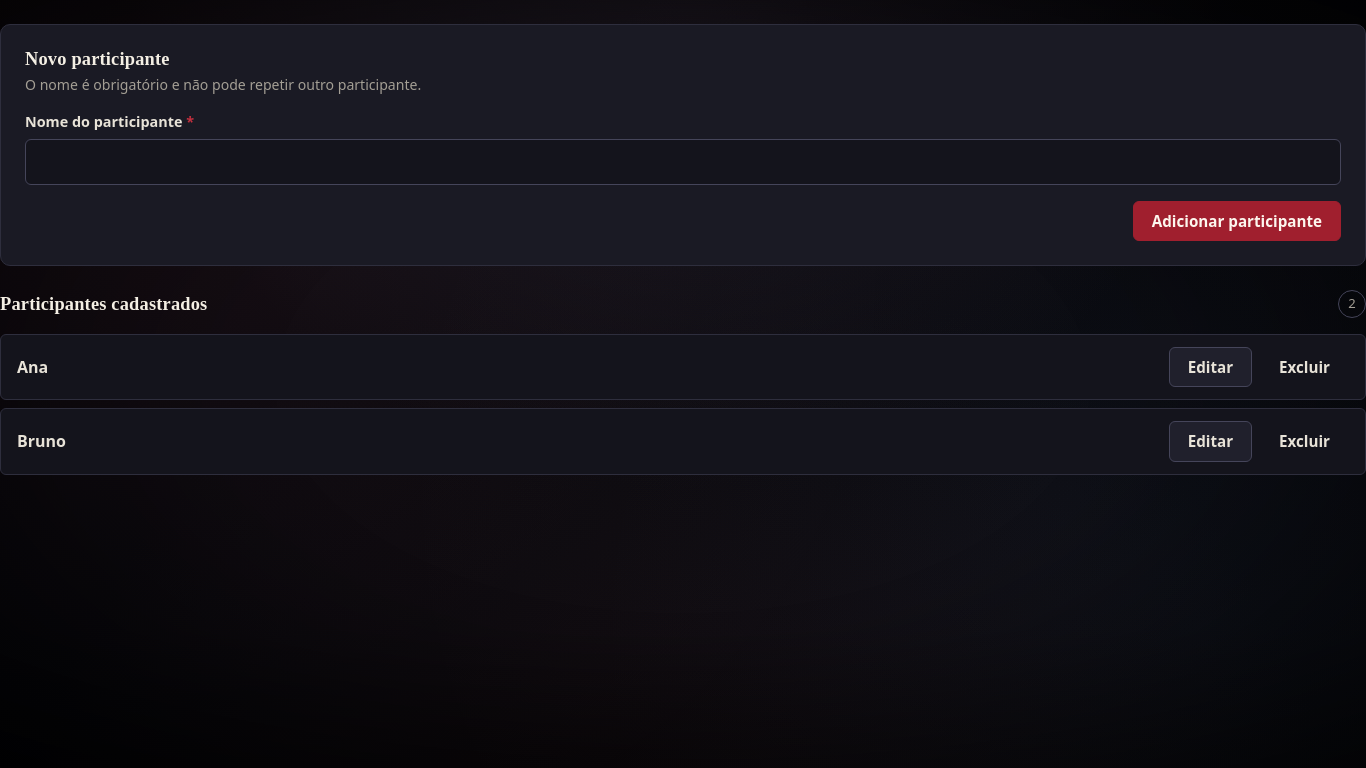
Test: Exclusão de participante (integração) › arquiva via deletedAt, remove da lista ativa e preserva o histórico
Expected: the text "Ana" is shown, [17, 355, 48, 379]
Click the button with aria-label "Excluir Ana": (1305, 367) [1260, 347, 1349, 387]
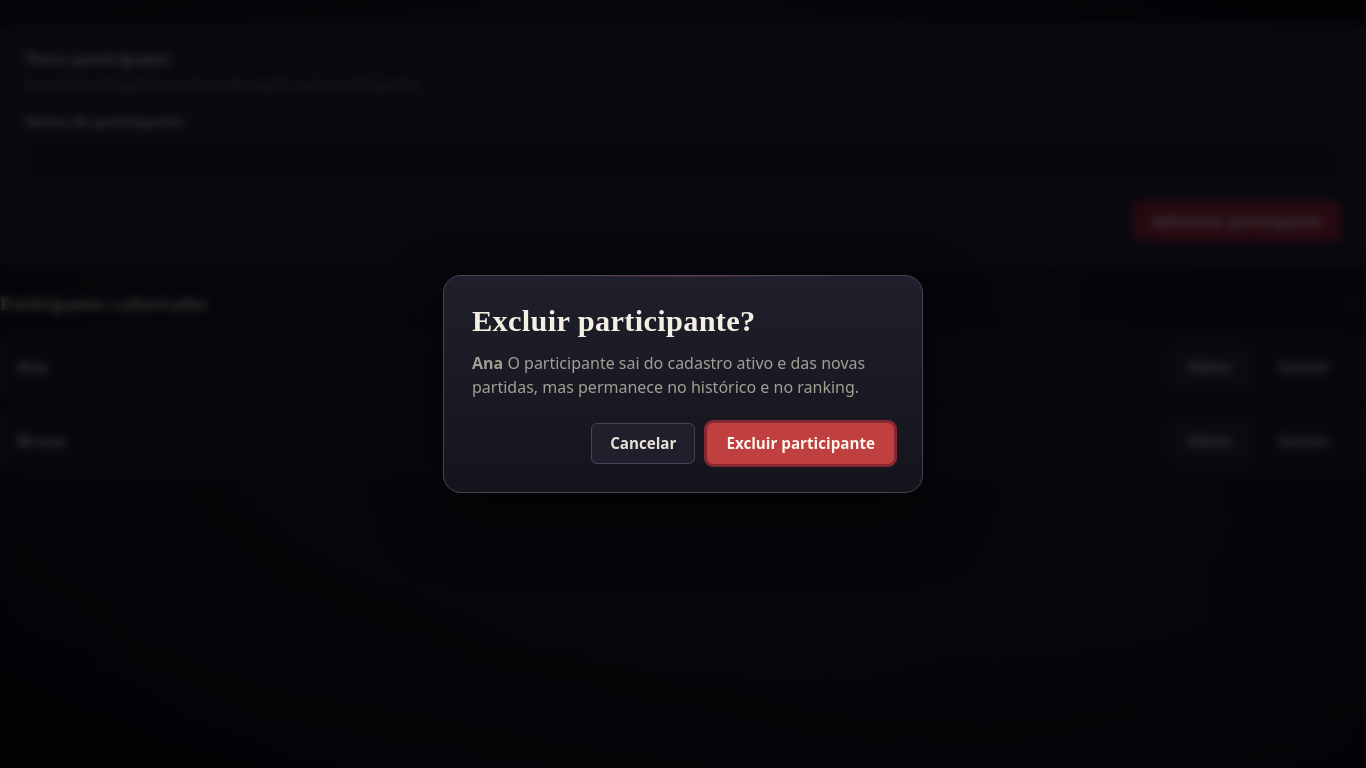
Click the button "Excluir participante": (801, 444) [707, 423, 894, 464]
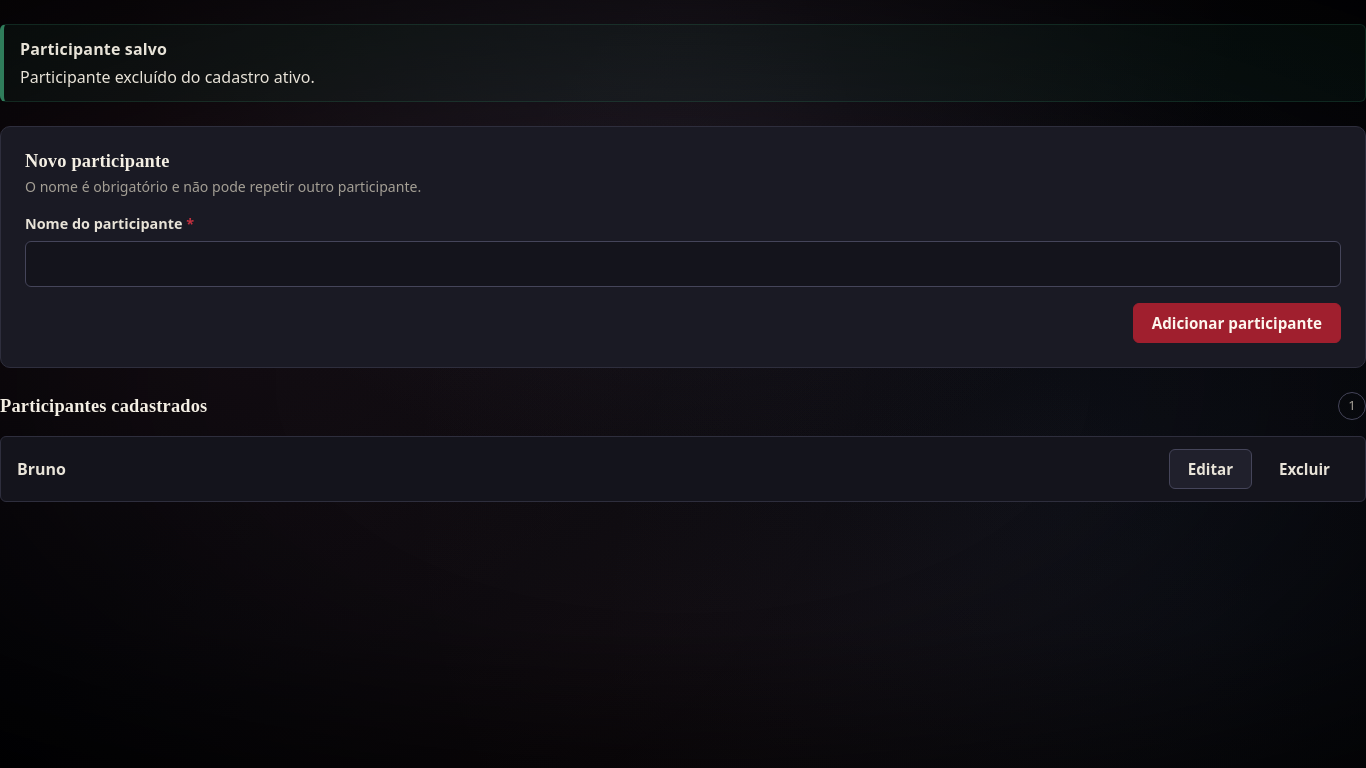
Expected: the text "Bruno" is shown, [17, 457, 66, 481]
Expected: the text "Participante excluído do cadastro ativo." is shown, [20, 66, 315, 88]
